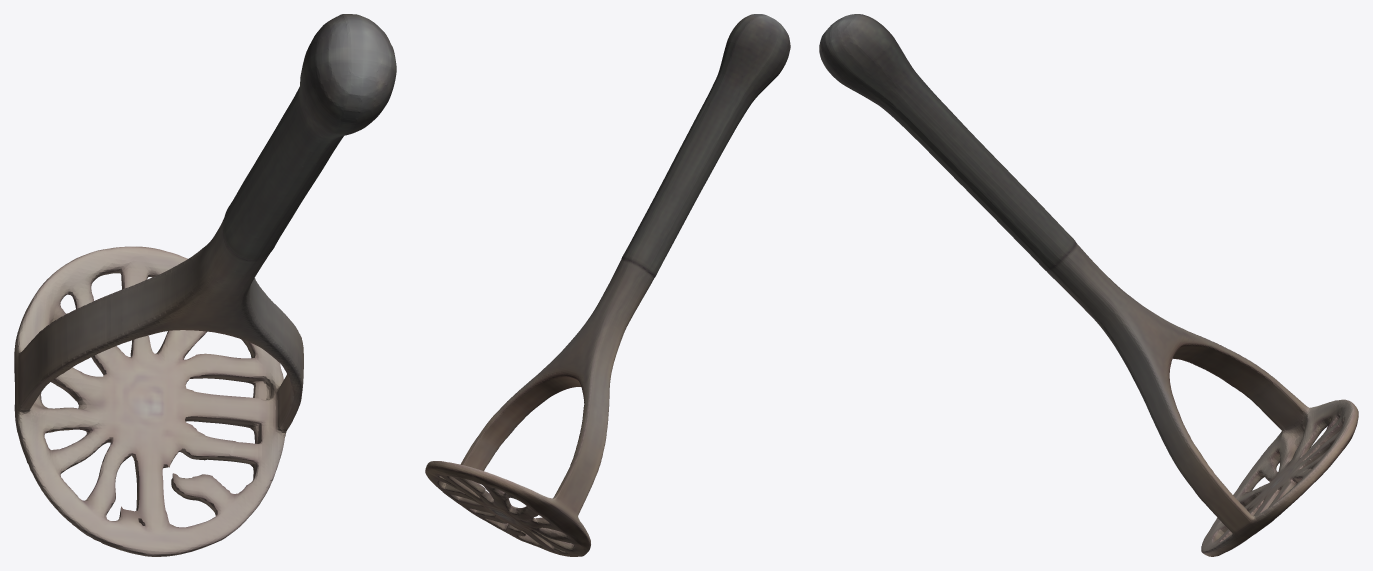
The model's file is frame_0045_source_000045_object.glb.
3 views of the same model, side by side, from view 1: azimuth 30°, elevation 25°; view 2: azimuth 150°, elevation 25°; view 3: azimuth 270°, elevation 25° (orthographic). The views are drawn at different scales.
Parts seen in each view (by area): view 1: world; view 2: world; view 3: world.
Boxes of the visible parts, box(x1,y1,x2,y2) form: world: box(14, 14, 396, 556); world: box(425, 14, 790, 556); world: box(819, 14, 1358, 556).
Bounding box in the file's own units: 0.0834 × 0.2123 × 0.2078.
